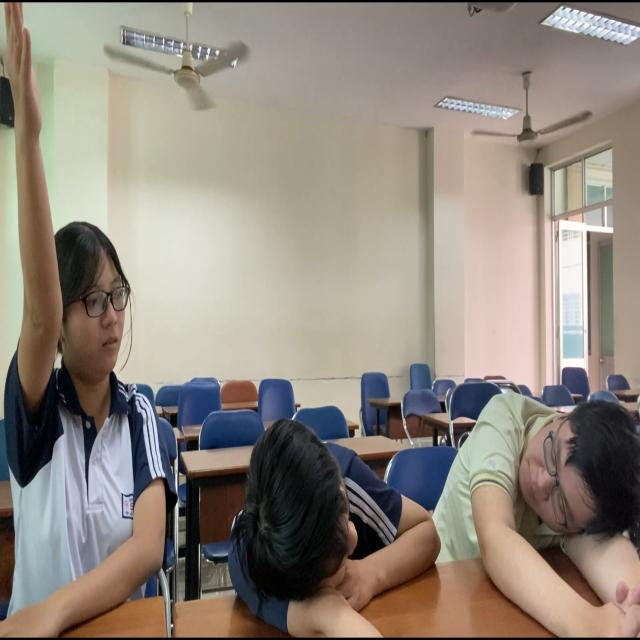raise_hand: (1, 1, 175, 640)
sleep: (435, 374, 640, 640), (221, 417, 449, 640)
